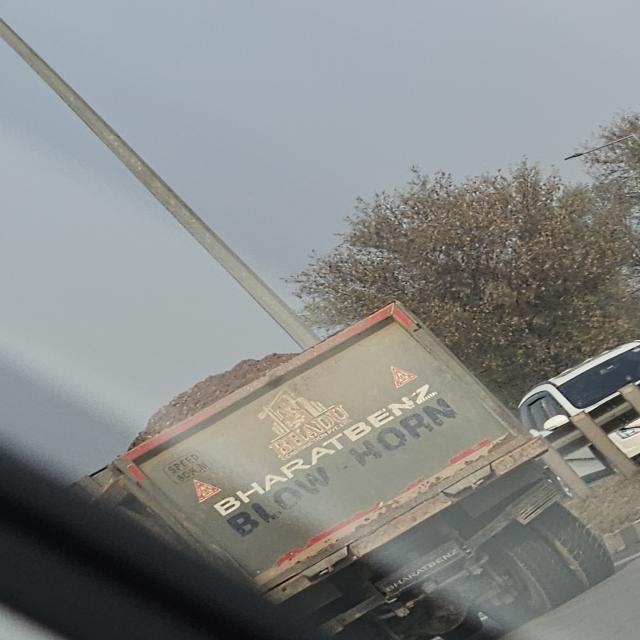uncovered: (52, 296, 460, 592)
